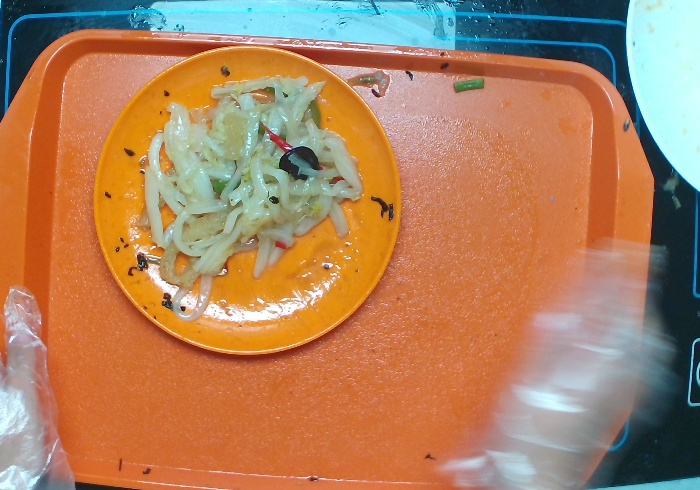HZYJPL-Ju_Huang_Yuan_Pan: (90, 44, 407, 360)
